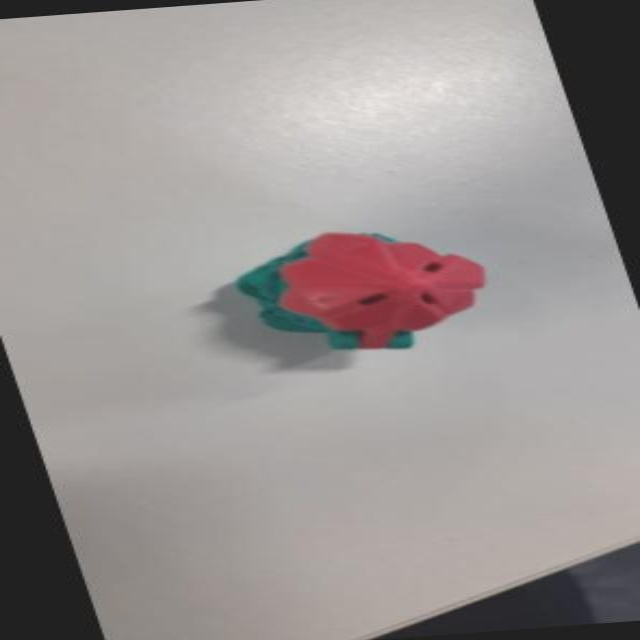House: (205, 222, 515, 362)
